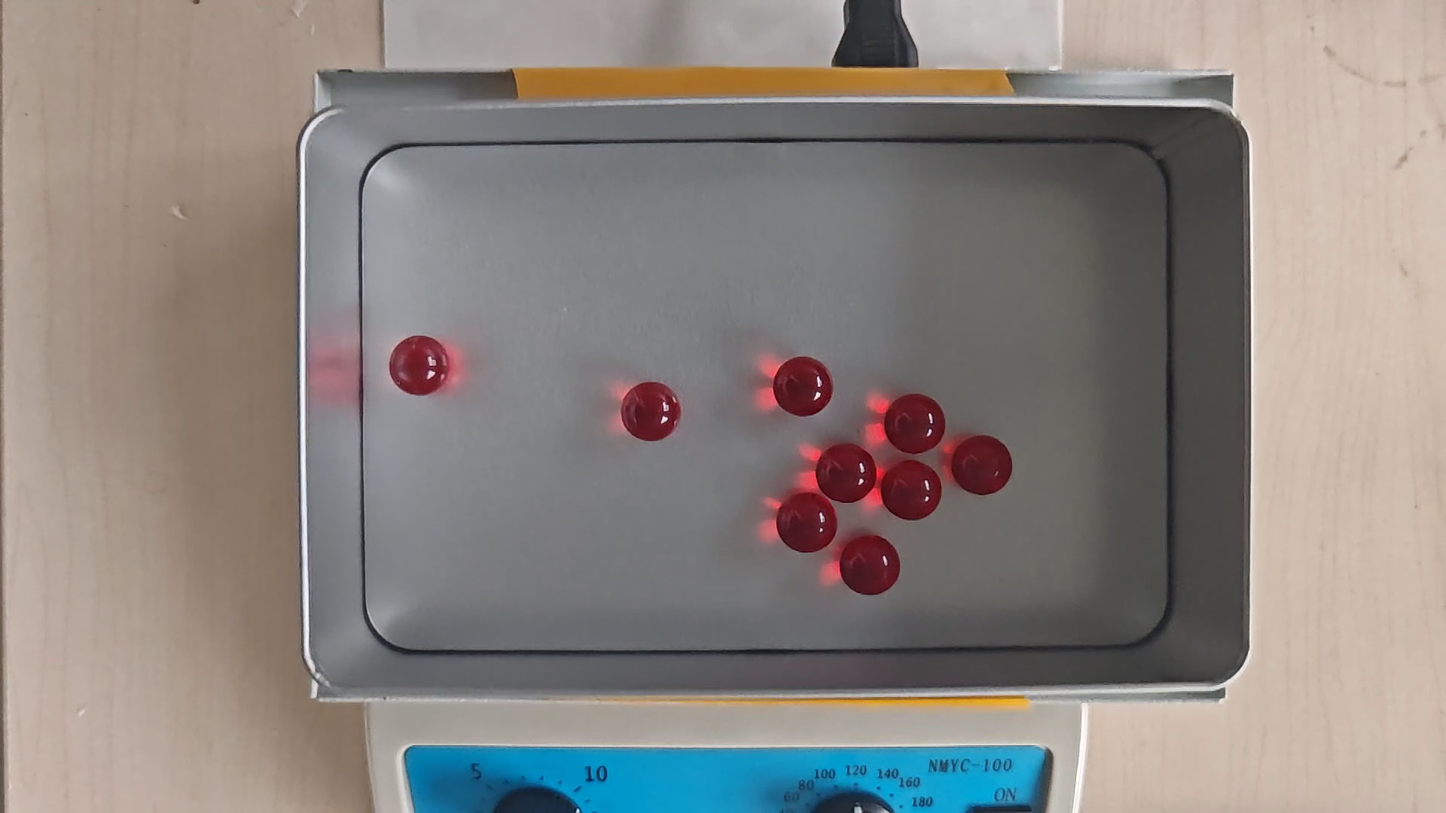ball: (952, 434, 1013, 497), (389, 335, 450, 397), (621, 380, 682, 442), (816, 443, 877, 504), (884, 393, 944, 455), (773, 355, 833, 417), (840, 535, 900, 596), (882, 460, 942, 521), (776, 493, 836, 554)
container: (357, 141, 1172, 646)
